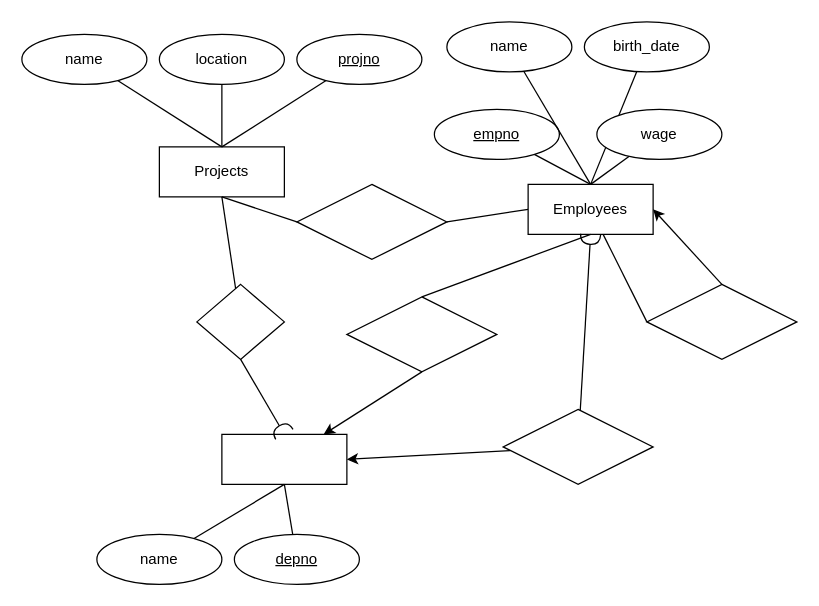
Image size: 819x606. Some labels were removed from this diagram. The centre of each missing label's shape, as x and y in pixels:
"at" goes at [240,321].
"Departments" goes at [284,458].
"is chief" goes at [577,446].
"manager" goes at [721,321].
"works" goes at [421,334].
"works on" goes at [371,221].
